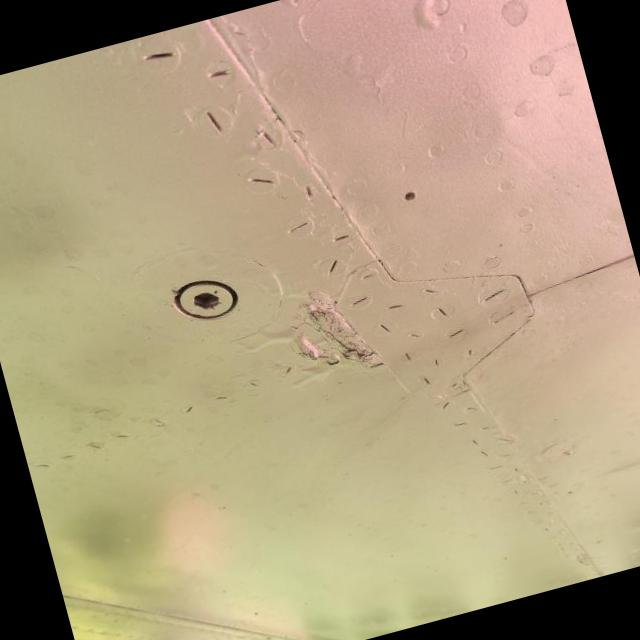Paint-off: (304, 290, 383, 366)
